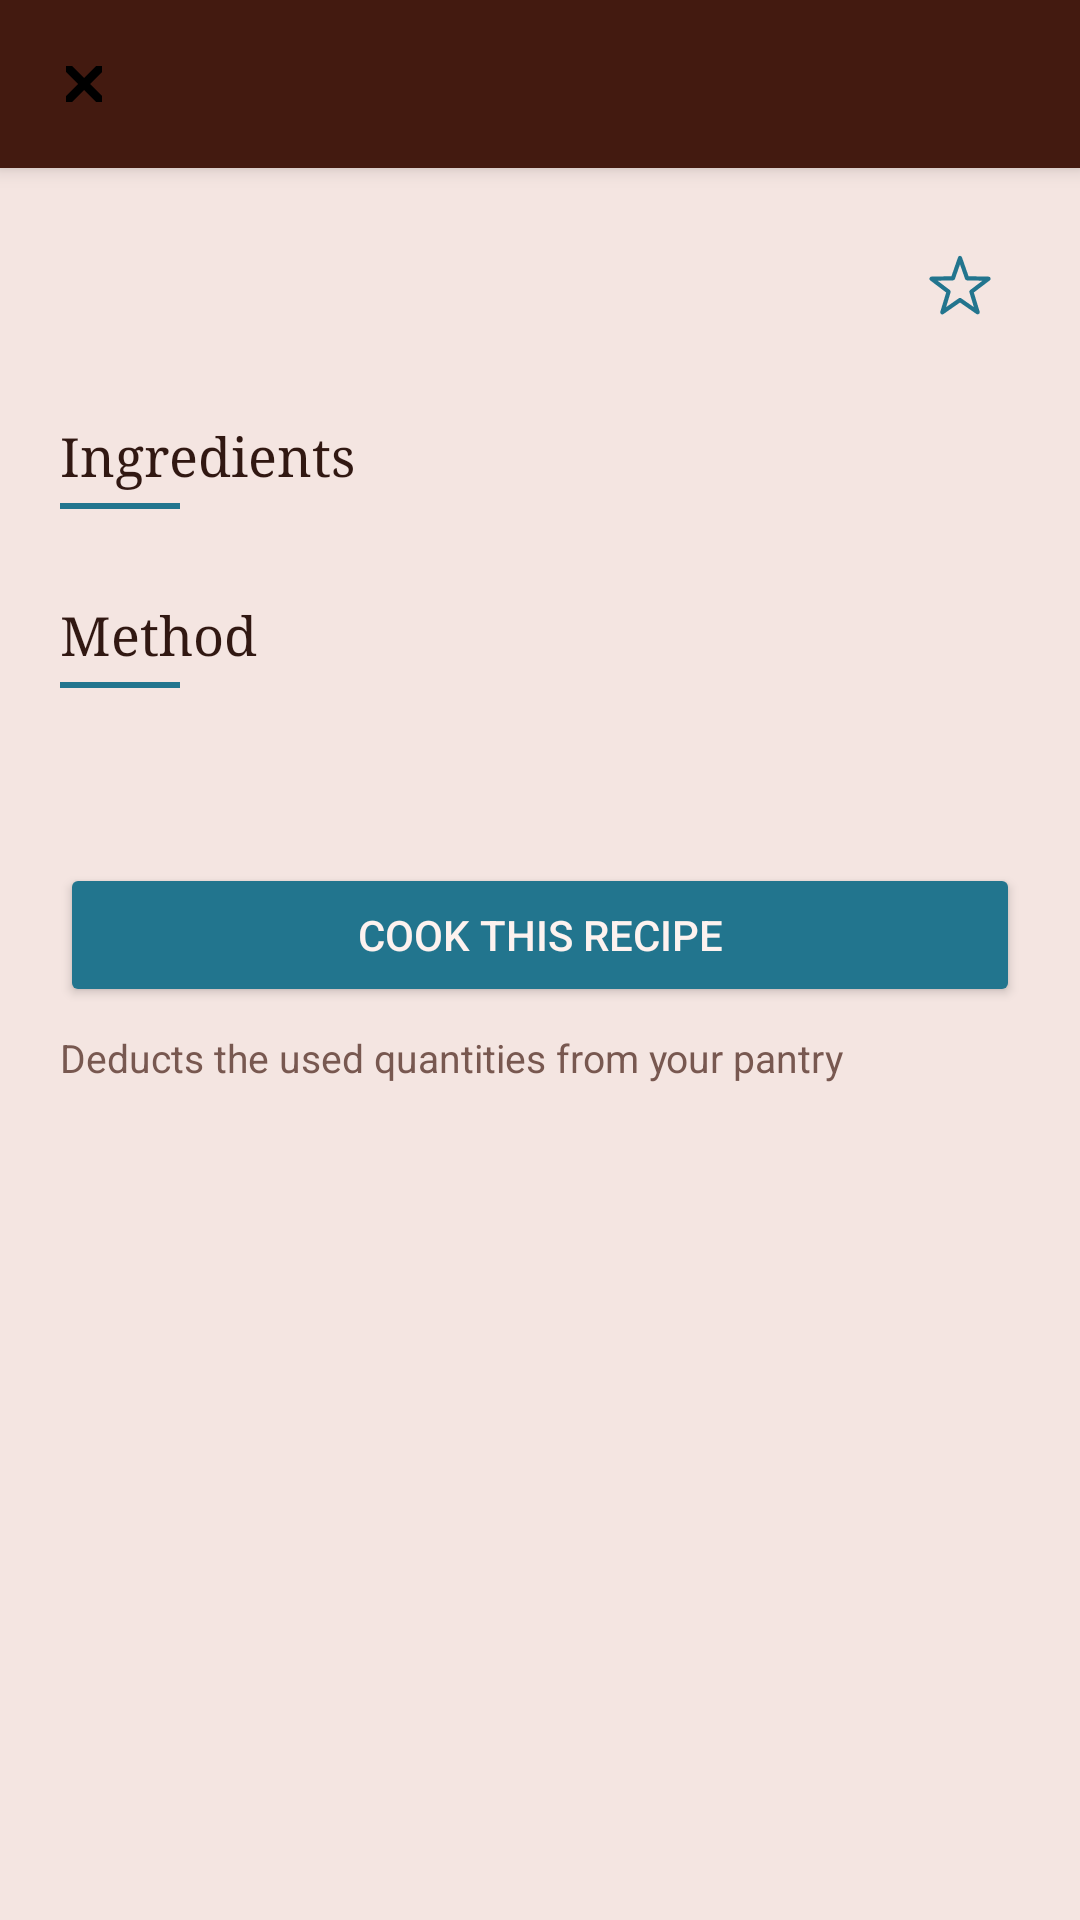

Locate icon controls on the screen. Image size 1080×1920, boxes as (x1, y1, x2, y2).
Toggle favorite: (929, 256, 991, 315)
